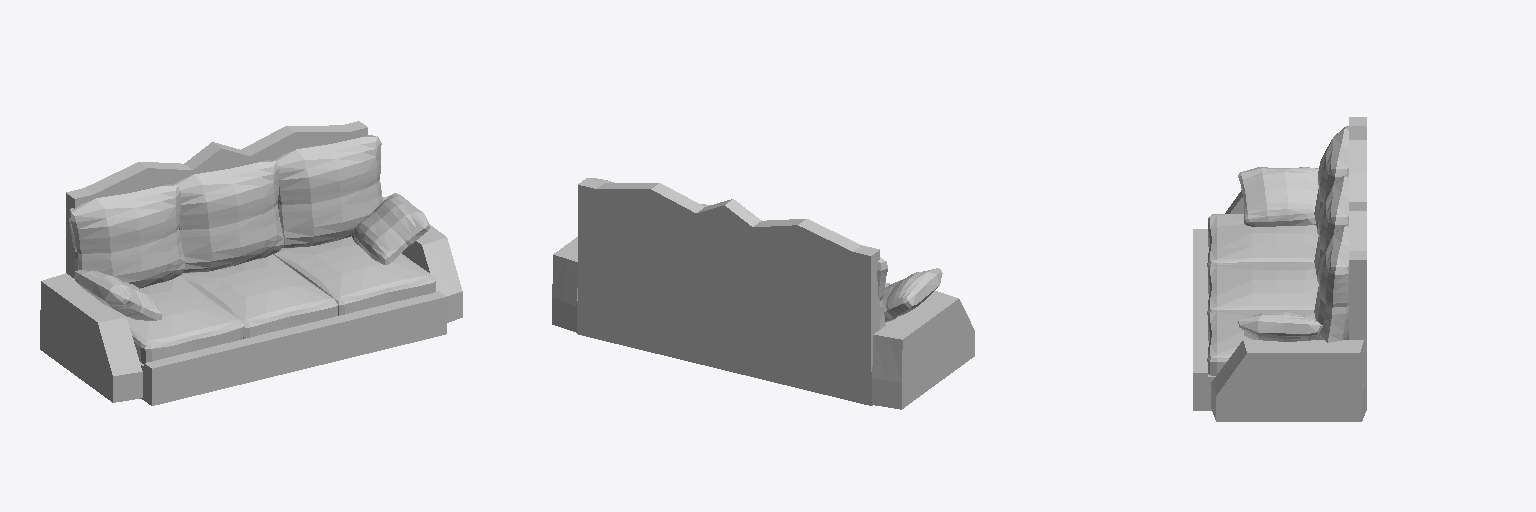
File: Sofa.obj
3 views of the same model, side by side, from view 1: azimuth 30°, elevation 25°; view 2: azimuth 150°, elevation 25°; view 3: azimuth 270°, elevation 25° (orthographic).
Visible parts, largest first — view 1: polySurface20; view 2: polySurface20; view 3: polySurface20.
Boxes of the visible parts, x1,y1,x2,y2 form: polySurface20: [40, 121, 462, 405]; polySurface20: [552, 178, 974, 409]; polySurface20: [1193, 117, 1366, 421].
Size of the model in its own units: 20.79 by 9.38 by 8.96.